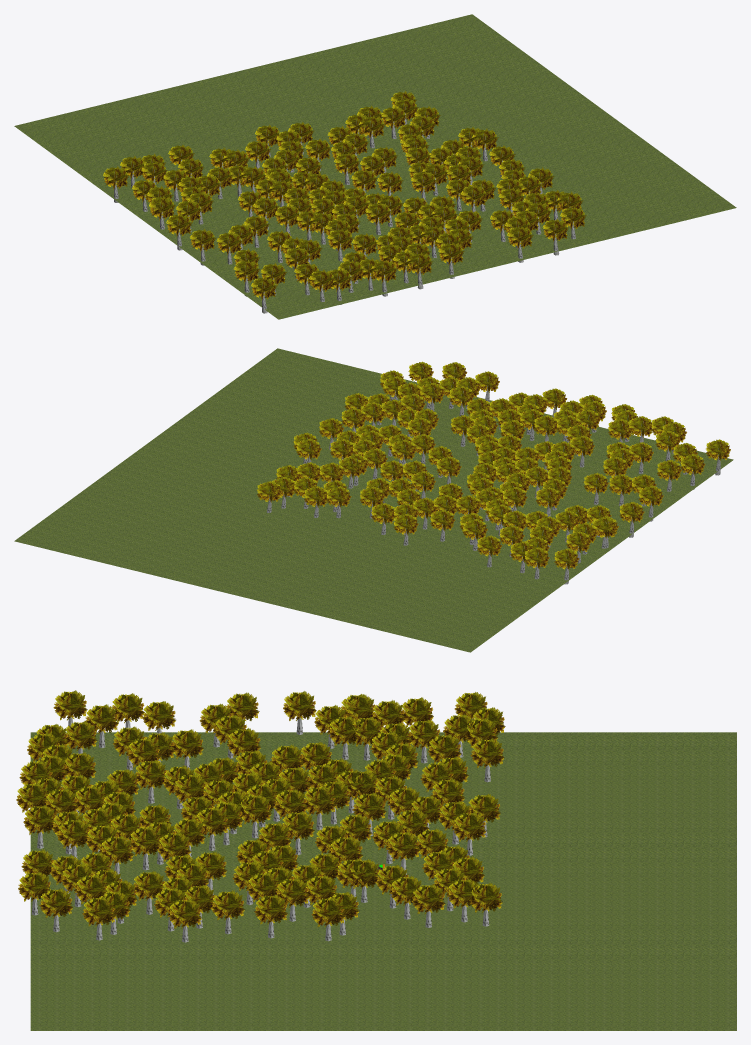
Rendered from MAP_BETA_UNDEATH.glb.
3 views of the same model, one above another, from view 1: azimuth 30°, elevation 25°; view 2: azimuth 150°, elevation 25°; view 3: azimuth 270°, elevation 25° (orthographic). The views are drawn at different scales.
Visible parts, largest first — view 1: Floor, Birch Forest; view 2: Floor, Birch Forest; view 3: Floor, Birch Forest.
Part boxes in pixels (left/top/right/bottom): Floor: left=14, top=14, right=736, bottom=319; Birch Forest: left=103, top=91, right=586, bottom=313; Floor: left=14, top=348, right=733, bottom=652; Birch Forest: left=257, top=361, right=730, bottom=584; Floor: left=30, top=732, right=736, bottom=1030; Birch Forest: left=16, top=690, right=505, bottom=942.
Size of the model in its own units: 103 by 8.12 by 102.
Materials: 11 (11 with a texture image).
